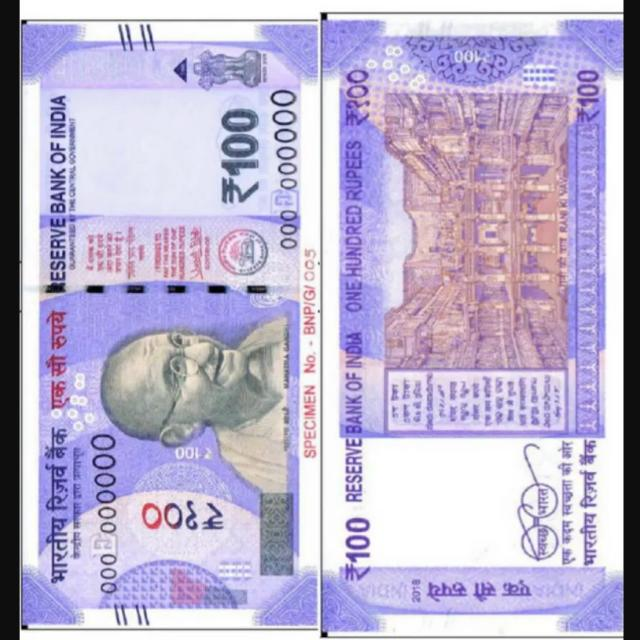100IndianRupees: (20, 20, 321, 635), (322, 15, 621, 626), (324, 16, 613, 433), (20, 299, 317, 640), (20, 25, 330, 302)
